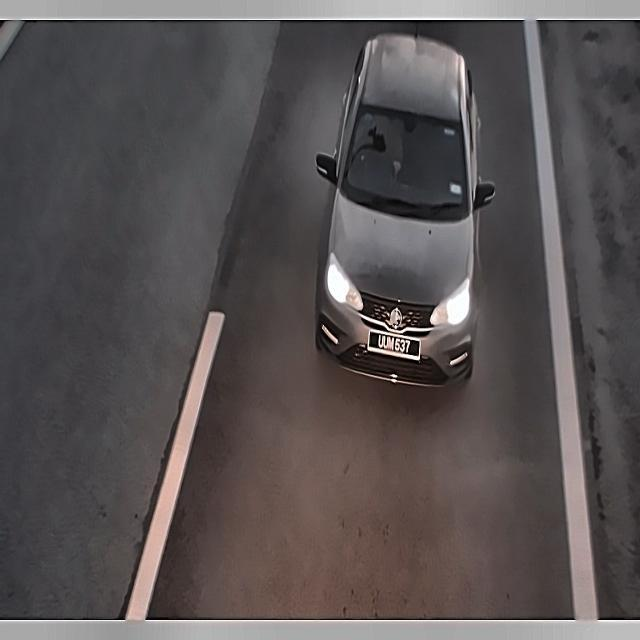car: (364, 325, 424, 362)
